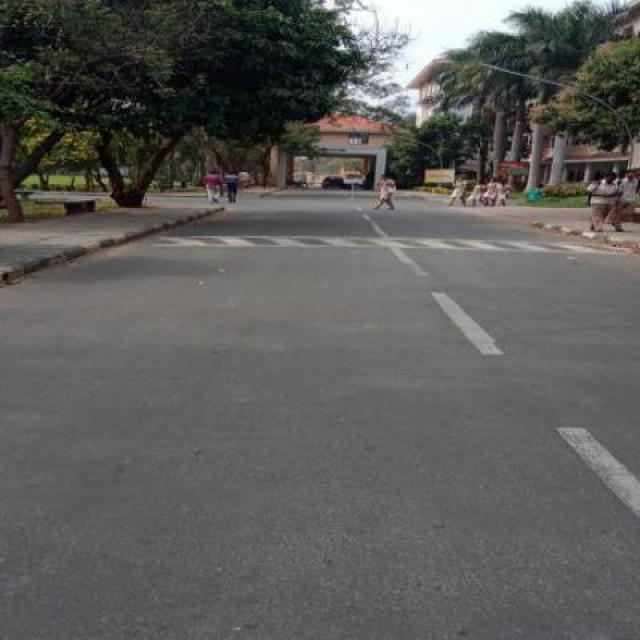Speed Bump: (160, 236, 631, 255)
